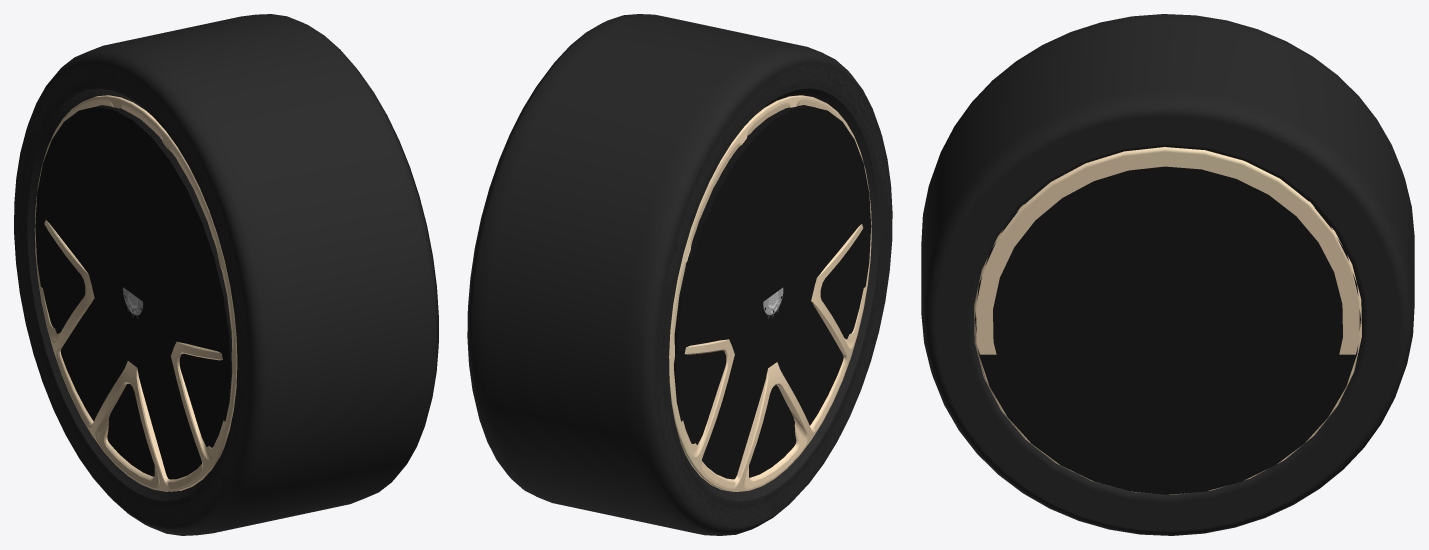
File: Gemera_Wheel_Rear.obj
The picture shows the model from 3 angles, left to right: view 1: azimuth 30°, elevation 25°; view 2: azimuth 150°, elevation 25°; view 3: azimuth 270°, elevation 25°; orthographic projection.
Parts seen in each view (by area): view 1: polySurface261.001; view 2: polySurface261.001; view 3: polySurface261.001.
Part boxes in pixels (x1,y1,x2,y2): polySurface261.001: (14, 14, 438, 535); polySurface261.001: (467, 14, 892, 535); polySurface261.001: (921, 14, 1414, 535).
Bounding box in the file's own units: 0.3486 × 0.7546 × 0.7477.
2 materials, 1 textured.
